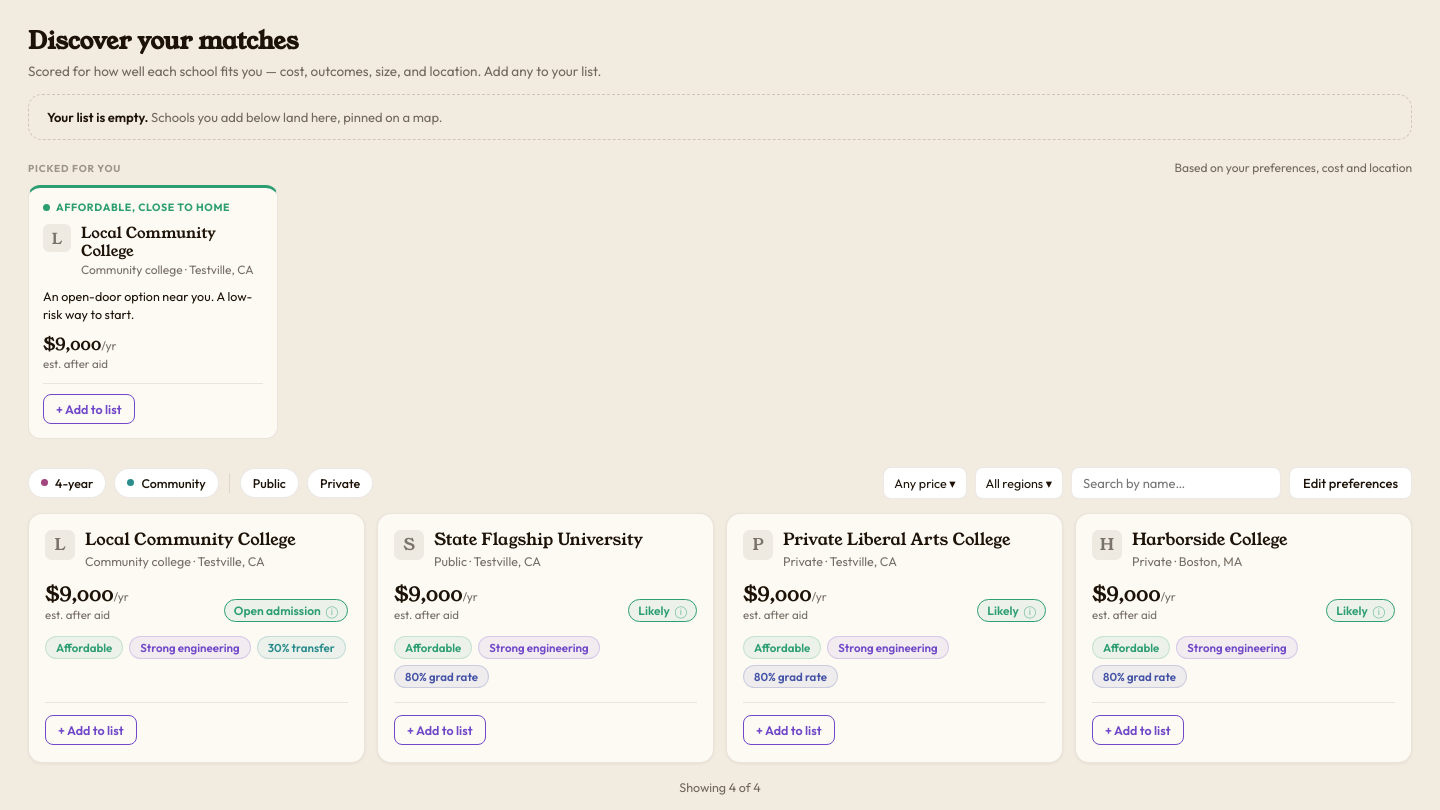
Test: CollegeDiscoverTab › opens the school detail popup when a card is clicked
The image size is (1440, 810).
Click the text "State Flagship University" at (538,540), box left=434, top=530, right=643, bottom=550
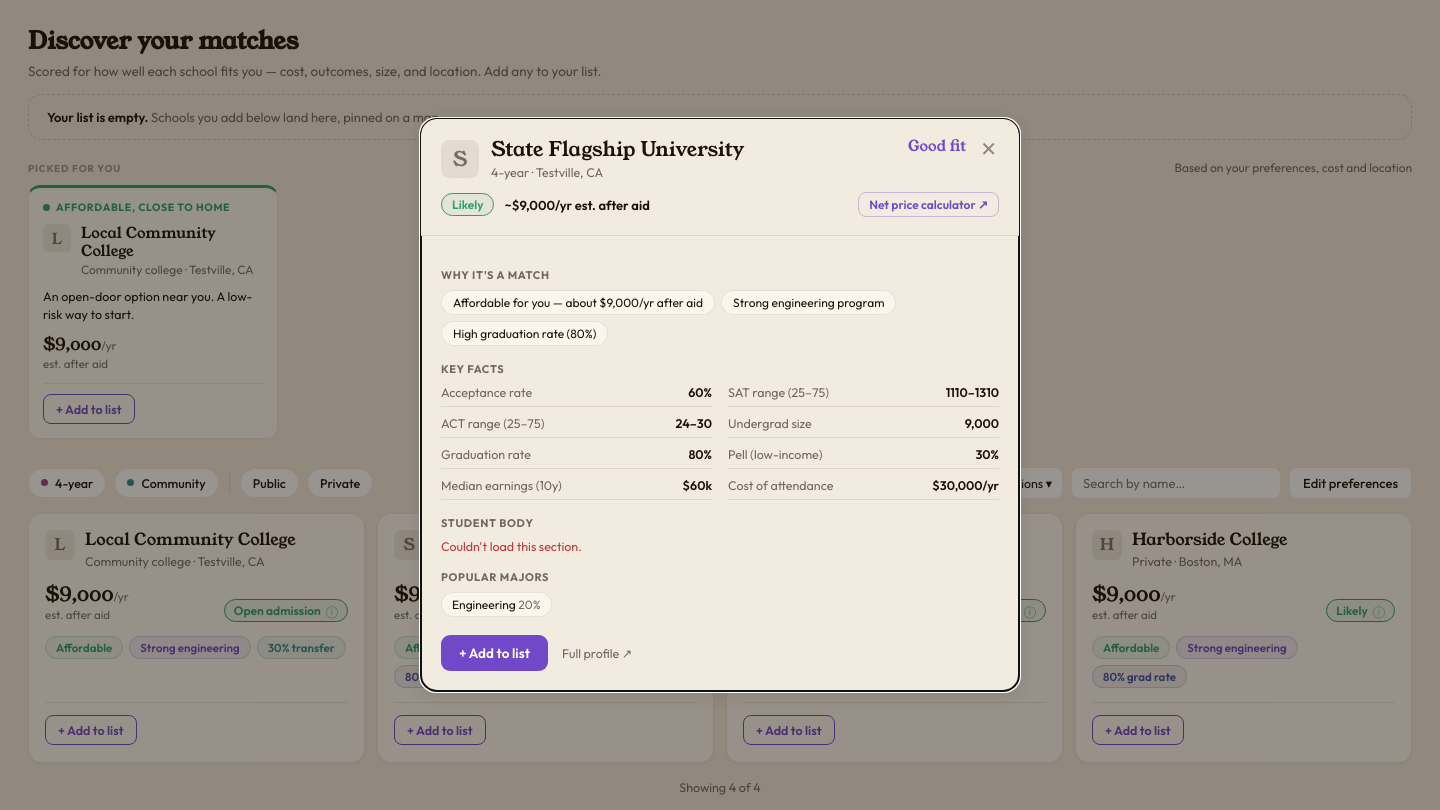
Expected: the dialog "State Flagship University" is shown, left=420, top=118, right=1020, bottom=692
